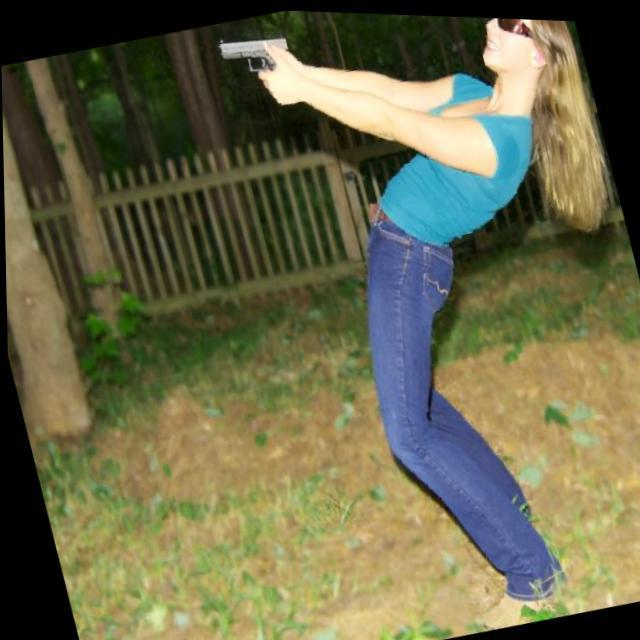weapon: (215, 23, 294, 81)
